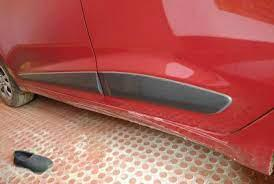RunningBoard-Dent: (111, 111, 229, 153)
doorouter-dent: (0, 0, 102, 105)
